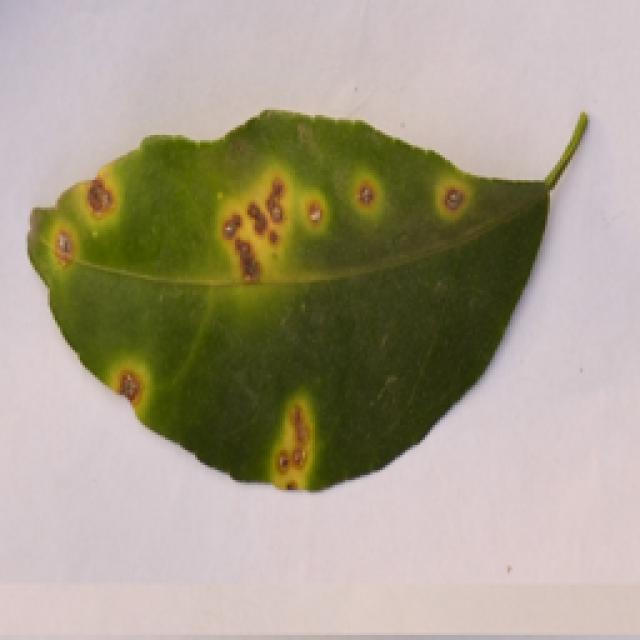canker: (30, 103, 535, 518)
